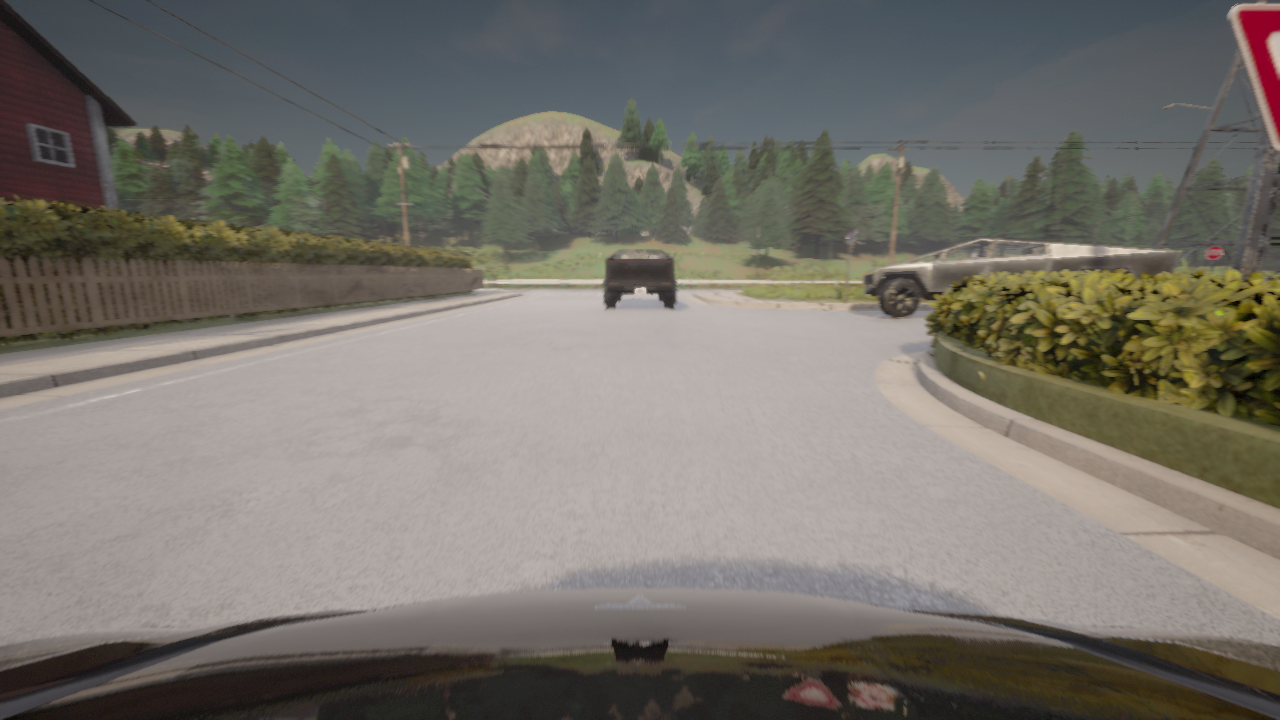cyclist: (0, 588, 1279, 719), (863, 238, 1180, 317), (602, 249, 677, 308), (650, 293, 653, 294)
